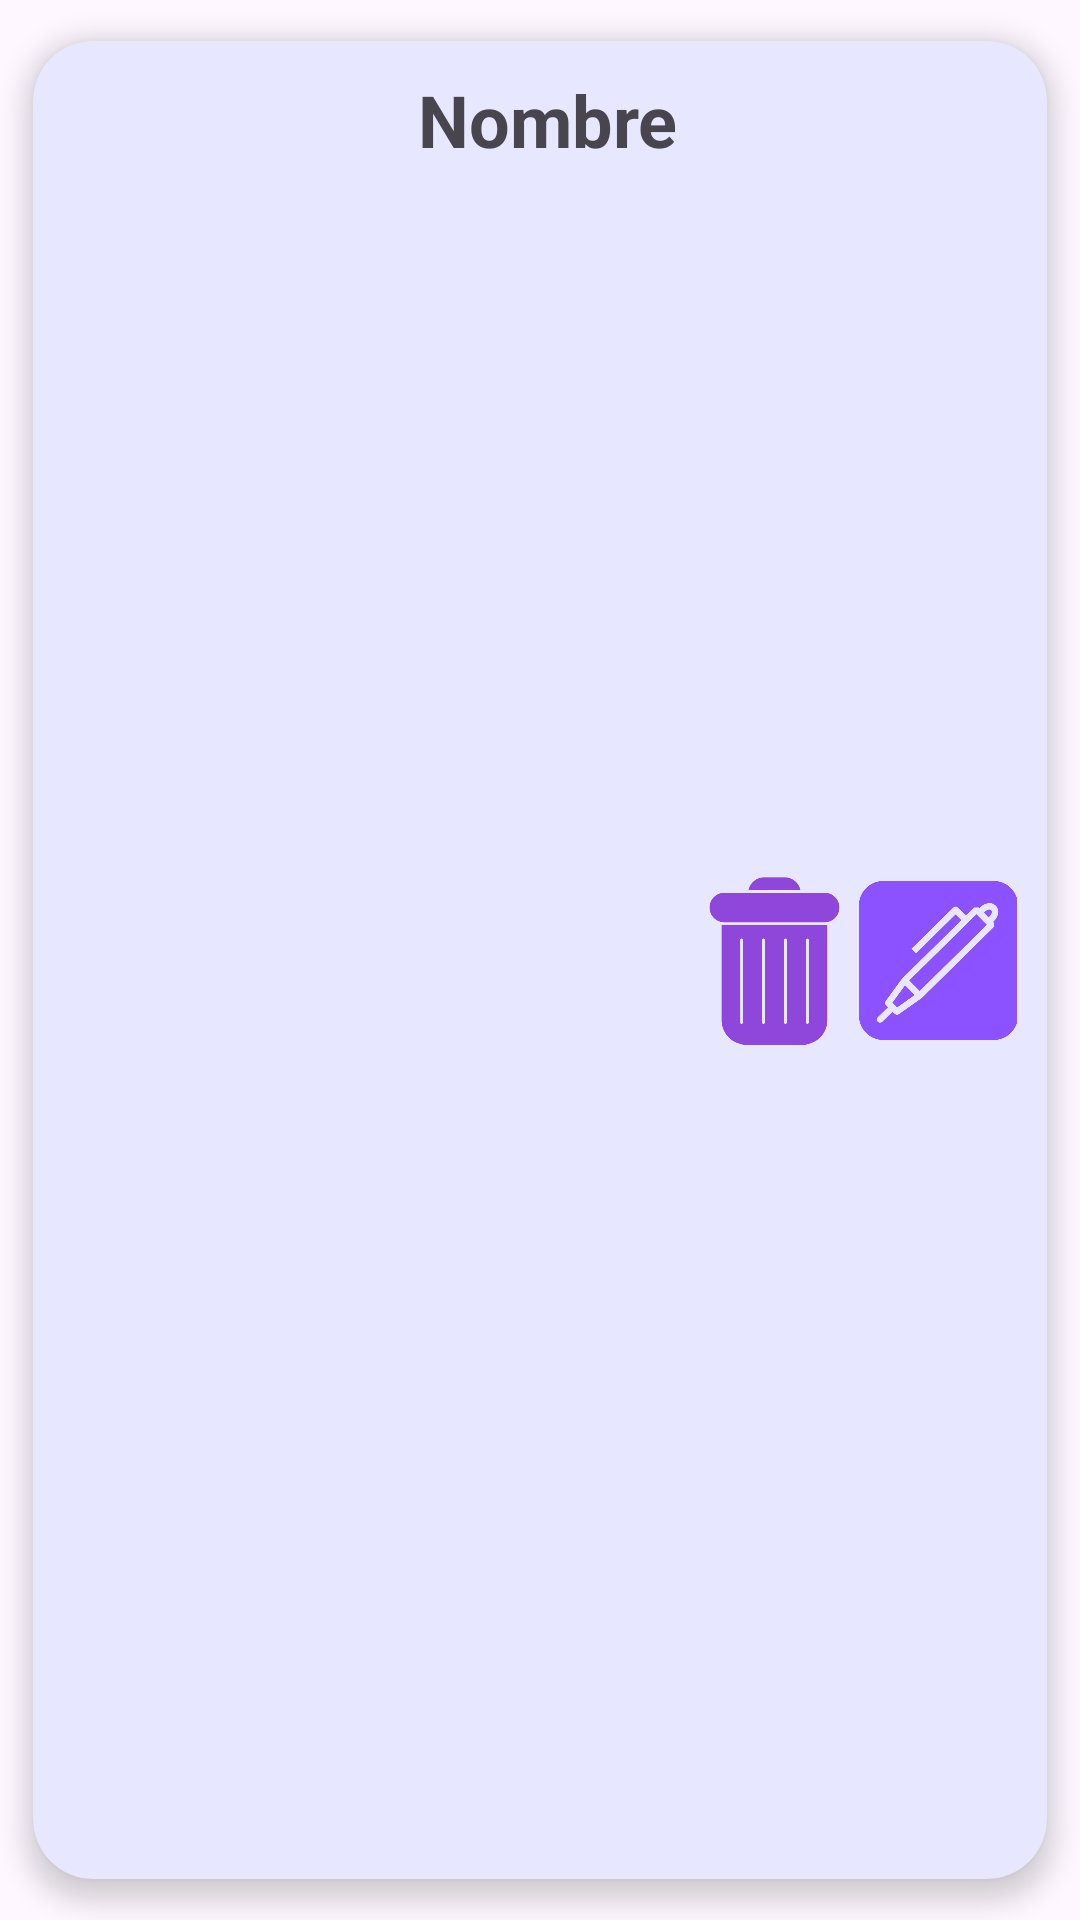

Point at icon controls on the screen. Image size 1080px x 1920px, points as (x=x, y=y).
delete: (x=774, y=961)
edit: (x=938, y=960)
